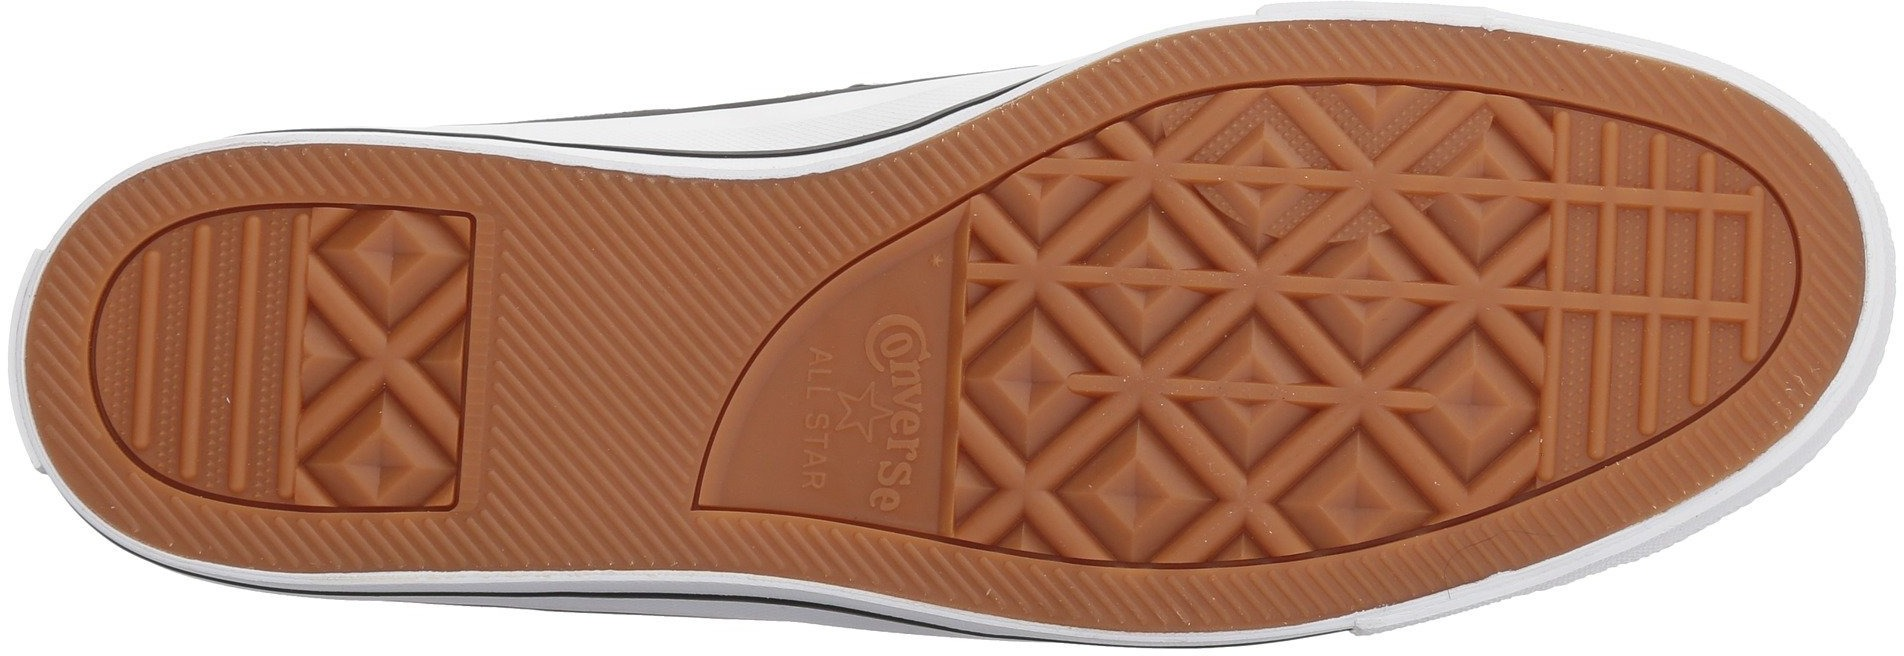chevron: (284, 334, 463, 511), (300, 207, 466, 378)
circle: (1562, 205, 1604, 266)
line: (1076, 312, 1443, 474), (506, 180, 739, 378), (495, 402, 673, 564)
quad: (1554, 131, 1716, 362), (284, 334, 463, 511), (300, 207, 466, 378)
star: (824, 371, 903, 460)
text: (797, 330, 931, 475)
triangle: (284, 334, 463, 511), (300, 207, 466, 378)
